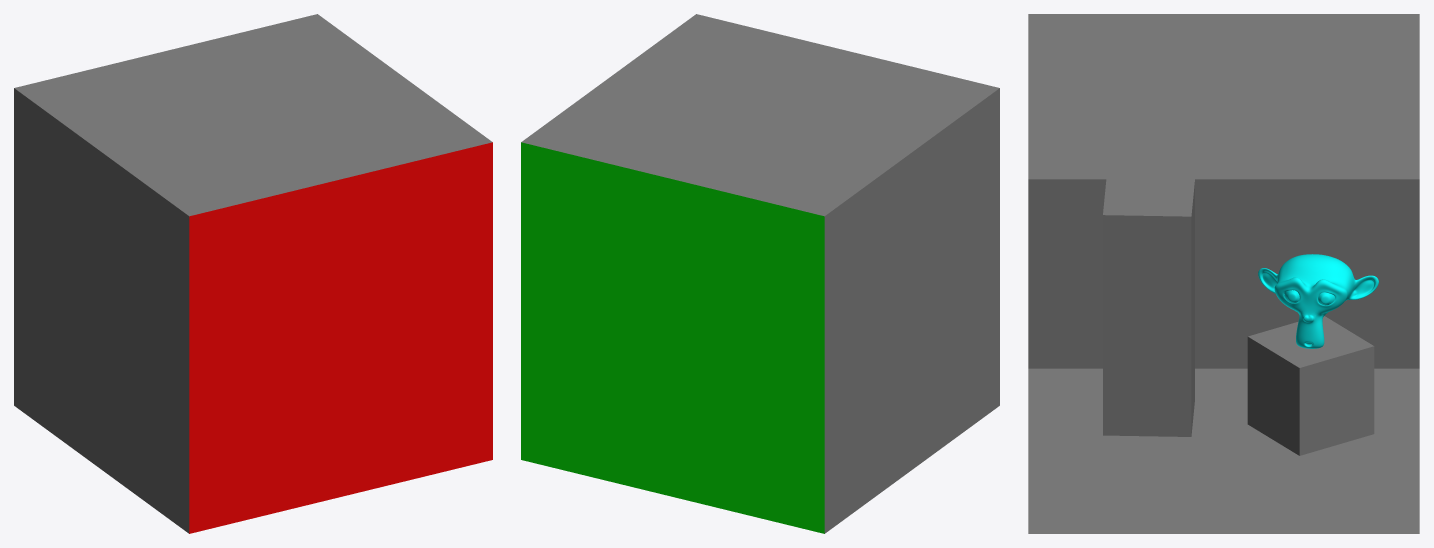
The model's file is monkeyBoxHD.obj.
3 views of the same model, side by side, from view 1: azimuth 30°, elevation 25°; view 2: azimuth 150°, elevation 25°; view 3: azimuth 270°, elevation 25° (orthographic). The views are drawn at different scales.
Parts seen in each view (by area): view 1: pCube1 polySurface1 polySurface4, pCube1 polySurface3 polySurface1; view 2: pCube1 polySurface1 polySurface4, polySurface2 pCube1; view 3: pCube1 polySurface1 polySurface4, pCube2, pCube3, suzanne:Mesh.
Part boxes in pixels (x1,y1,x2,y2): pCube1 polySurface1 polySurface4: (14,14,492,533); pCube1 polySurface3 polySurface1: (189,142,492,533); pCube1 polySurface1 polySurface4: (521,14,999,533); polySurface2 pCube1: (521,142,824,533); pCube1 polySurface1 polySurface4: (1028,14,1419,533); pCube2: (1103,179,1194,436); pCube3: (1247,316,1374,455); suzanne:Mesh: (1258,254,1378,348).
Bounding box in the file's own units: 10.67 × 10.67 × 10.67.
